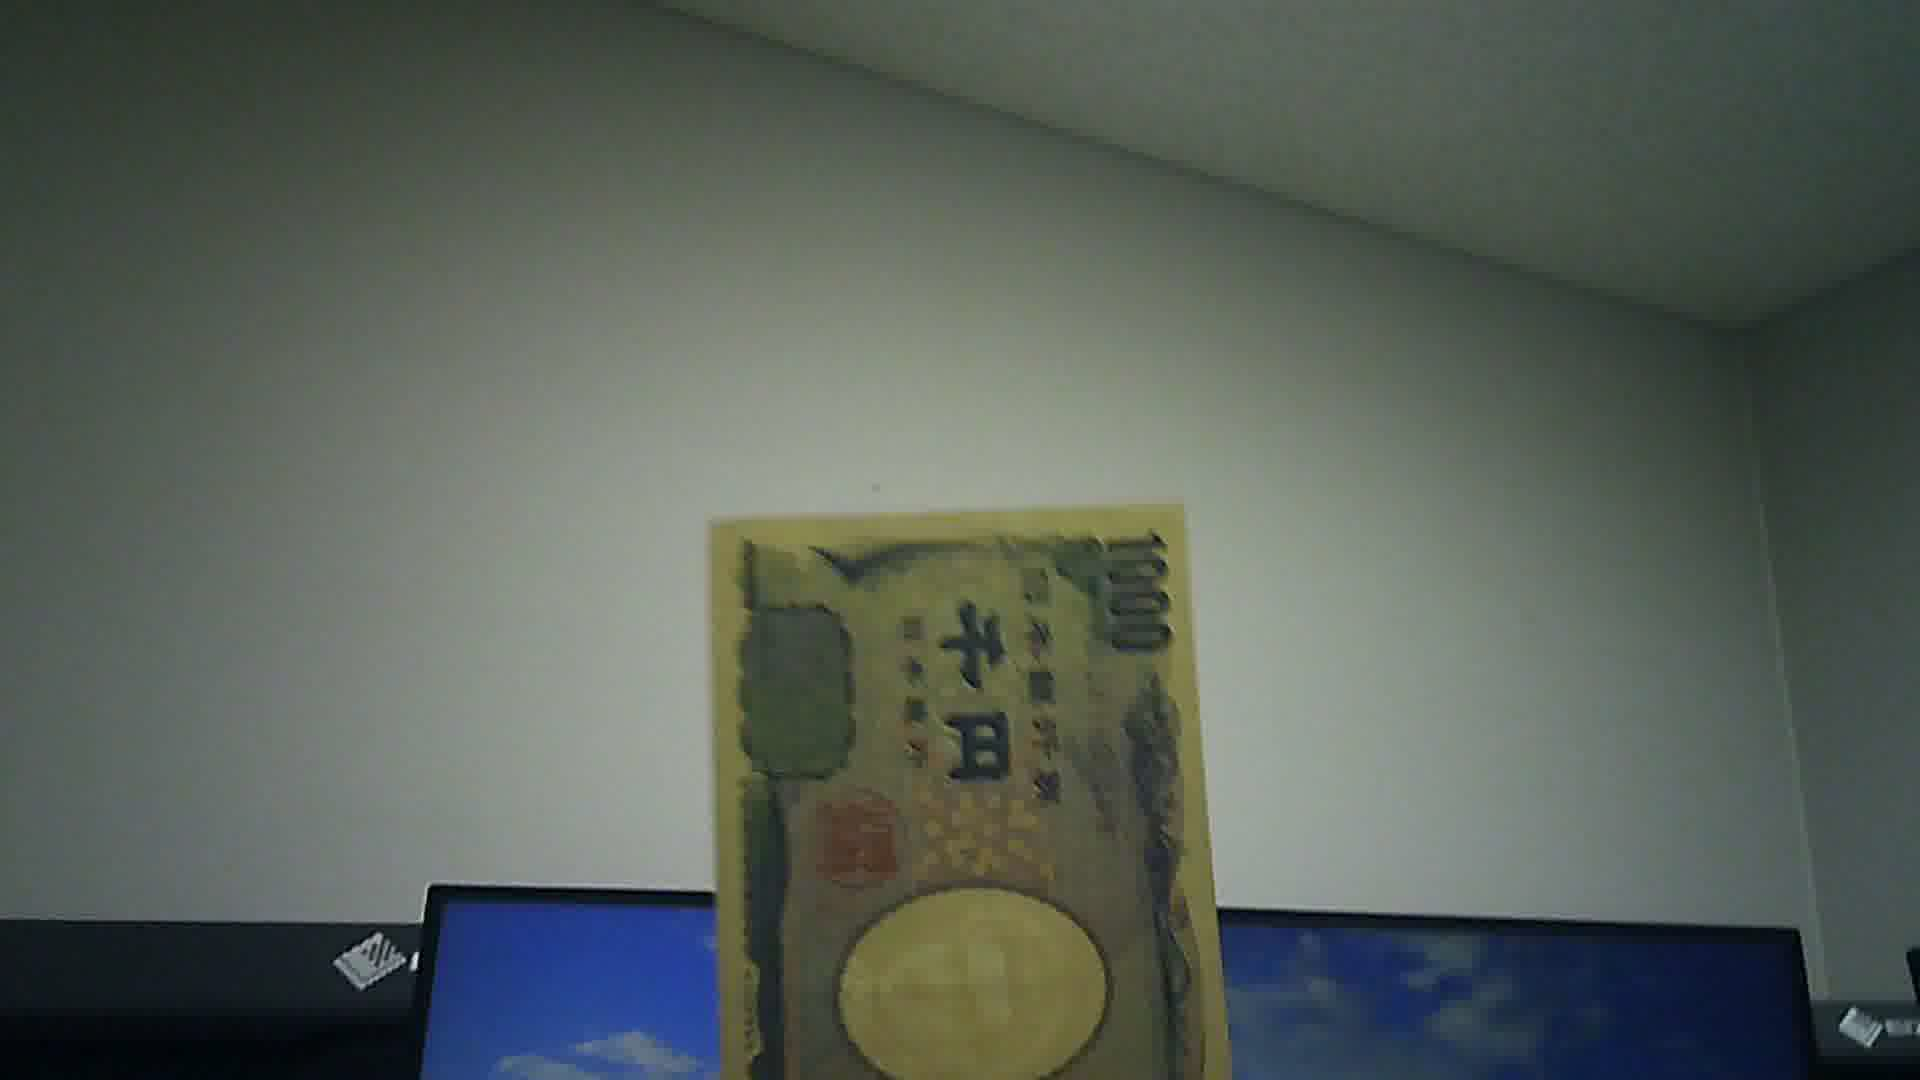1,000 Yen: (692, 505, 1230, 1077)
